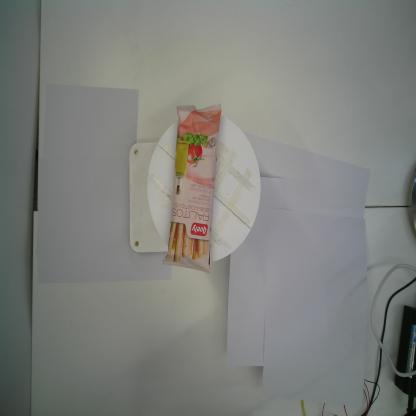Dessert: (162, 101, 223, 276)
